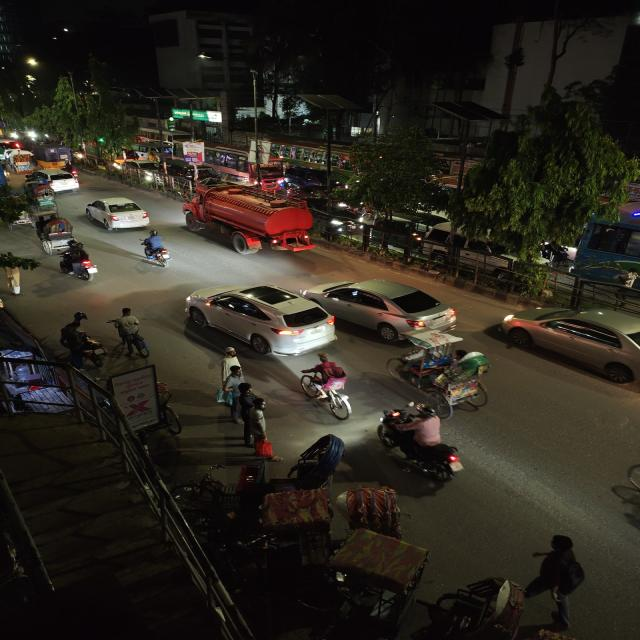bicycle: (296, 352, 358, 418)
bus: (200, 144, 281, 184)
car: (495, 304, 640, 398), (180, 281, 342, 359), (300, 272, 465, 344), (83, 196, 153, 234), (28, 170, 83, 194)
motorcycle: (374, 404, 473, 484), (57, 242, 102, 284), (136, 231, 176, 269)
pedestrian: (228, 382, 272, 448), (106, 306, 152, 360), (214, 345, 248, 406), (0, 250, 27, 296)
rickshaw: (390, 343, 496, 412), (248, 476, 342, 542), (344, 483, 412, 541), (30, 212, 76, 255), (22, 181, 58, 210), (9, 150, 37, 174), (0, 160, 11, 190)
truck: (180, 179, 319, 257), (40, 146, 72, 169)
